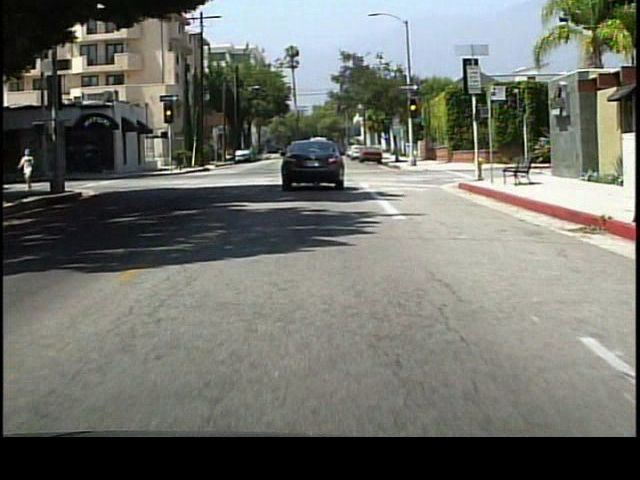person: (20, 145, 39, 192)
